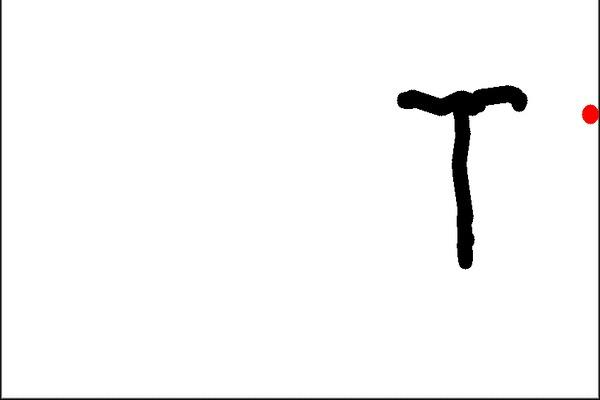T: (387, 81, 523, 271)
